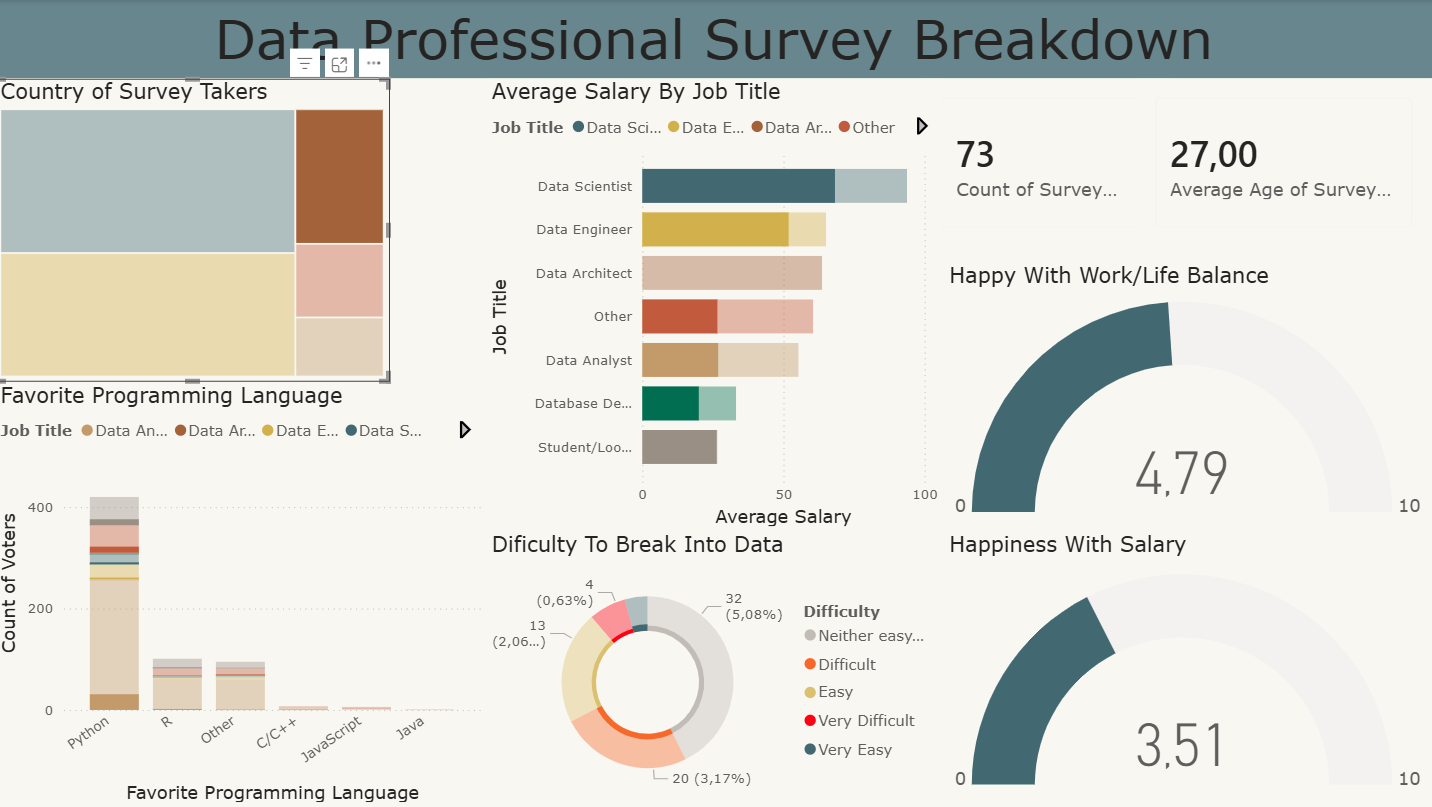

This screenshot's page, from the dashboard's own definition file:
{"tool":"powerbi","page":{"name":"Page 1","canvas":[1280,720],"ordinal":0},"visuals":[{"type":"textbox","box":[0,0,1280.3,70],"z":0},{"type":"cardVisual","fields":{"Data":["Count(Data Professional Survey.Unique ID)"]},"box":[826.1,70,220.9,149.6],"z":1000},{"type":"cardVisual","fields":{"Data":["Avg(Data Professional Survey.Q10 - Current Age)"]},"box":[1016.8,70,263.5,149.6],"z":2000},{"type":"barChart","title":"Average Salary By Job Title","fields":{"Category":["Data Professional Survey.Q1 - Which Title Best Fits your Current Role?.1"],"Y":["Avg(Data Professional Survey.Average Salary)"],"Series":["Data Professional Survey.Q1 - Which Title Best Fits your Current Role?.1"]},"box":[437.7,70,407.5,403.4],"z":3000},{"type":"columnChart","title":"Favorite Programming Language","fields":{"Category":["Data Professional Survey.Q5 - Favorite Programming Language.1"],"Y":["CountNonNull(Data Professional Survey.Unique ID)"],"Series":["Data Professional Survey.Q1 - Which Title Best Fits your Current Role?.1"]},"box":[0,340.3,437.7,378.7],"z":4000},{"type":"treemap","title":"Country of Survey Takers","fields":{"Group":["Data Professional Survey.Q11 - Which Country do you live in?.1"],"Values":["CountNonNull(Data Professional Survey.Q11 - Which Country do you live in?.1)"]},"box":[0,70,351.3,270.3],"z":5000},{"type":"gauge","title":"Happy With Work/Life Balance","fields":{"Y":["Avg(Data Professional Survey.Q6 - How Happy are you in your Current Position with the following? (Work/Life Balance))"],"MinValue":["Min(Data Professional Survey.Q6 - How Happy are you in your Current Position with the following? (Work/Life Balance))1"],"MaxValue":["Max(Data Professional Survey.Q6 - How Happy are you in your Current Position with the following? (Work/Life Balance))2"]},"box":[845.3,233.3,435,240.1],"z":6000},{"type":"gauge","title":"Happiness With Salary","fields":{"Y":["Avg(Data Professional Survey.Q6 - How Happy are you in your Current Position with the following? (Salary))"],"MinValue":["Min(Data Professional Survey.Q6 - How Happy are you in your Current Position with the following? (Salary))"],"MaxValue":["Max(Data Professional Survey.Q6 - How Happy are you in your Current Position with the following? (Salary))"]},"box":[845.3,473.4,435,247],"z":7000},{"type":"donutChart","title":"Dificulty To Break Into Data","fields":{"Category":["Data Professional Survey.Q7 - How difficult was it for you to break into Data?"],"Y":["CountNonNull(Data Professional Survey.Q7 - How difficult was it for you to break into Data?)"]},"box":[437.7,473.4,407.5,247],"z":8000}]}

Visuals, with their boxes in screenshot pixels (x1, y1, x2, y2), scaled from the page's 1280x720 canvas onto the 1432x807 screenshot:
textbox: select_region(0, 0, 1431, 78)
cardVisual - Count(Data Professional Survey.Unique ID): select_region(924, 78, 1171, 246)
cardVisual - Avg(Data Professional Survey.Q10 - Current Age): select_region(1138, 78, 1431, 246)
"Average Salary By Job Title" barChart: select_region(490, 78, 946, 531)
"Favorite Programming Language" columnChart: select_region(0, 381, 490, 806)
"Country of Survey Takers" treemap: select_region(0, 78, 393, 381)
"Happy With Work/Life Balance" gauge: select_region(946, 261, 1431, 531)
"Happiness With Salary" gauge: select_region(946, 531, 1431, 806)
"Dificulty To Break Into Data" donutChart: select_region(490, 531, 946, 806)
